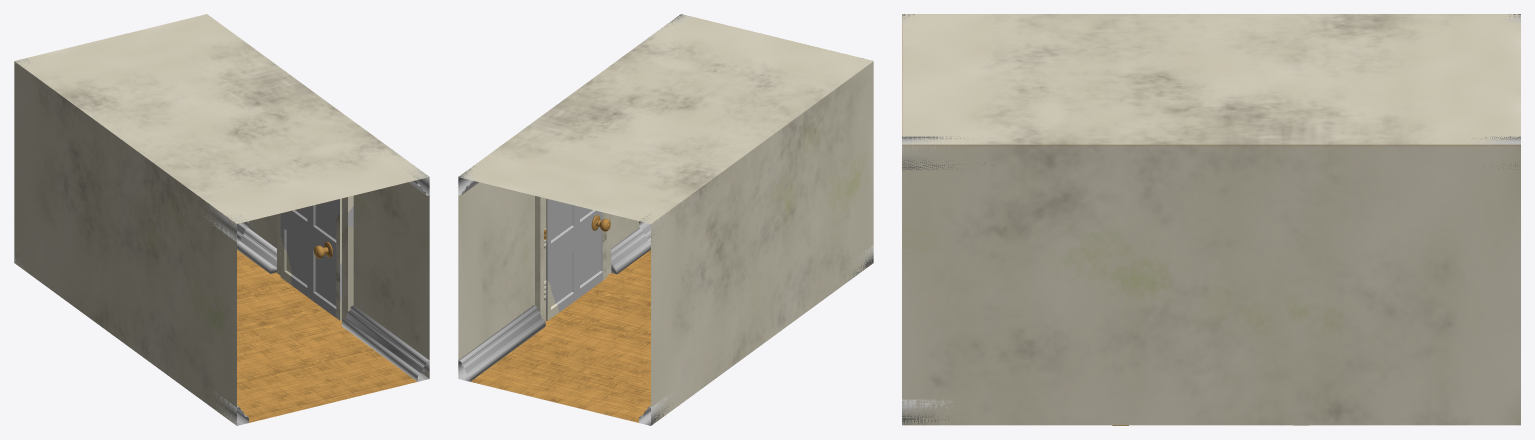
The model's file is Hallway_HallBasic_DoorLeft.fbx.
The picture shows the model from 3 angles, left to right: view 1: azimuth 30°, elevation 25°; view 2: azimuth 150°, elevation 25°; view 3: azimuth 270°, elevation 25°; orthographic projection. The views are drawn at different scales.
Parts seen in each view (by area): view 1: Hallway_HallBasic_DoorLeft, Hallway_Door_Left; view 2: Hallway_HallBasic_DoorLeft, Hallway_Door_Left; view 3: Hallway_HallBasic_DoorLeft.
Boxes of the visible parts, x1,y1,x2,y2 form: Hallway_HallBasic_DoorLeft: [14, 14, 429, 425]; Hallway_Door_Left: [277, 195, 353, 320]; Hallway_HallBasic_DoorLeft: [458, 14, 873, 425]; Hallway_Door_Left: [535, 196, 611, 320]; Hallway_HallBasic_DoorLeft: [902, 14, 1520, 425].
Size of the model in its own units: 748 by 751 by 1496.
Materials: 1 (1 with a texture image).
